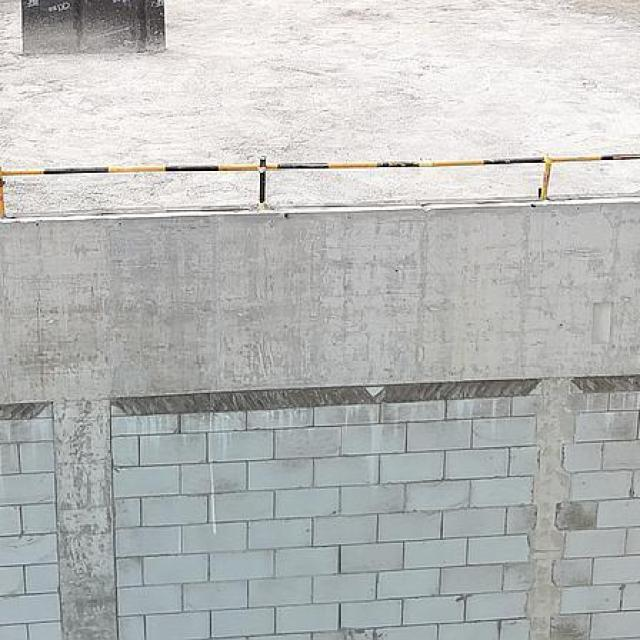edge_guardrail: (0, 153, 640, 220)
